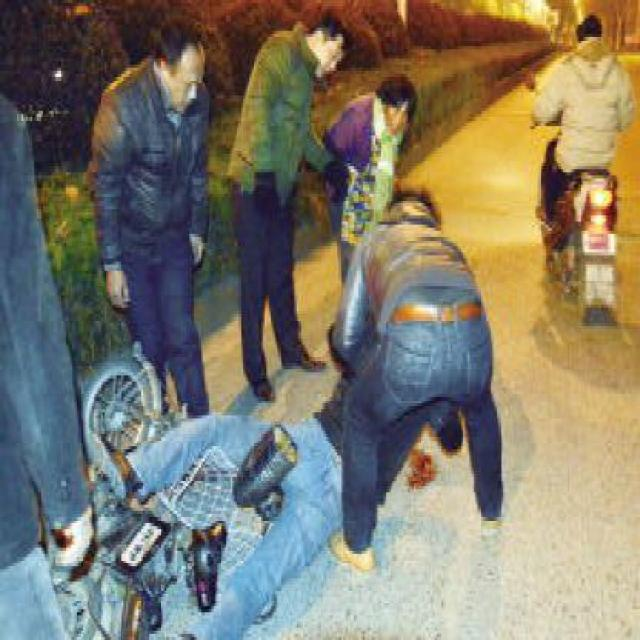fall: (138, 335, 364, 637)
